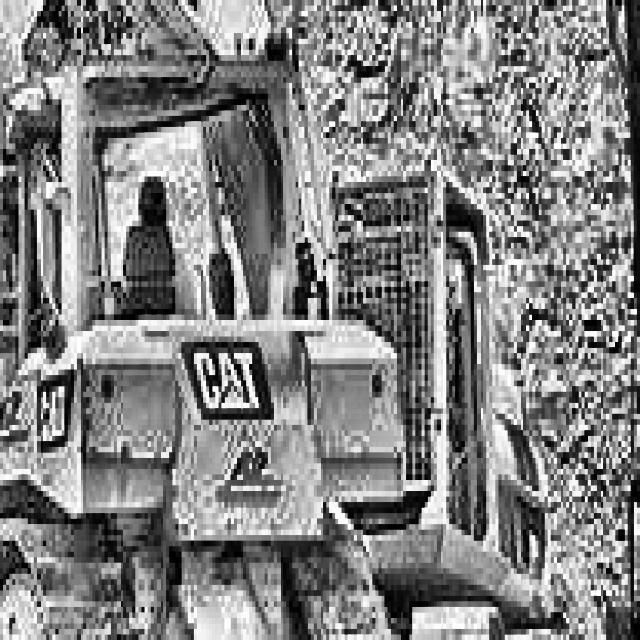buldozerpayloadergrader: (0, 0, 449, 640)
